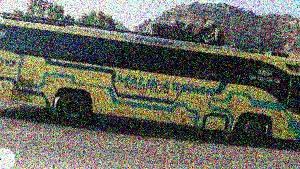bus: (0, 17, 299, 147)
